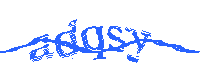a: (29, 35, 55, 62)
d: (56, 17, 77, 60)
q: (81, 24, 107, 61)
s: (106, 26, 126, 53)
y: (126, 26, 151, 64)
